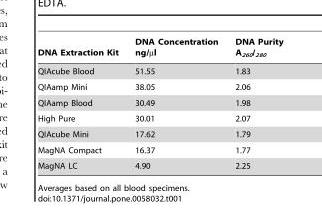table: (37, 37, 282, 169)
table column: (126, 37, 226, 169), (37, 37, 126, 169), (226, 37, 282, 169)
table column header: (37, 37, 282, 62)
table row: (37, 37, 282, 62), (37, 62, 282, 78), (37, 78, 282, 94), (37, 94, 282, 110), (37, 110, 282, 126), (37, 141, 282, 157), (37, 126, 282, 141), (37, 157, 282, 169)
